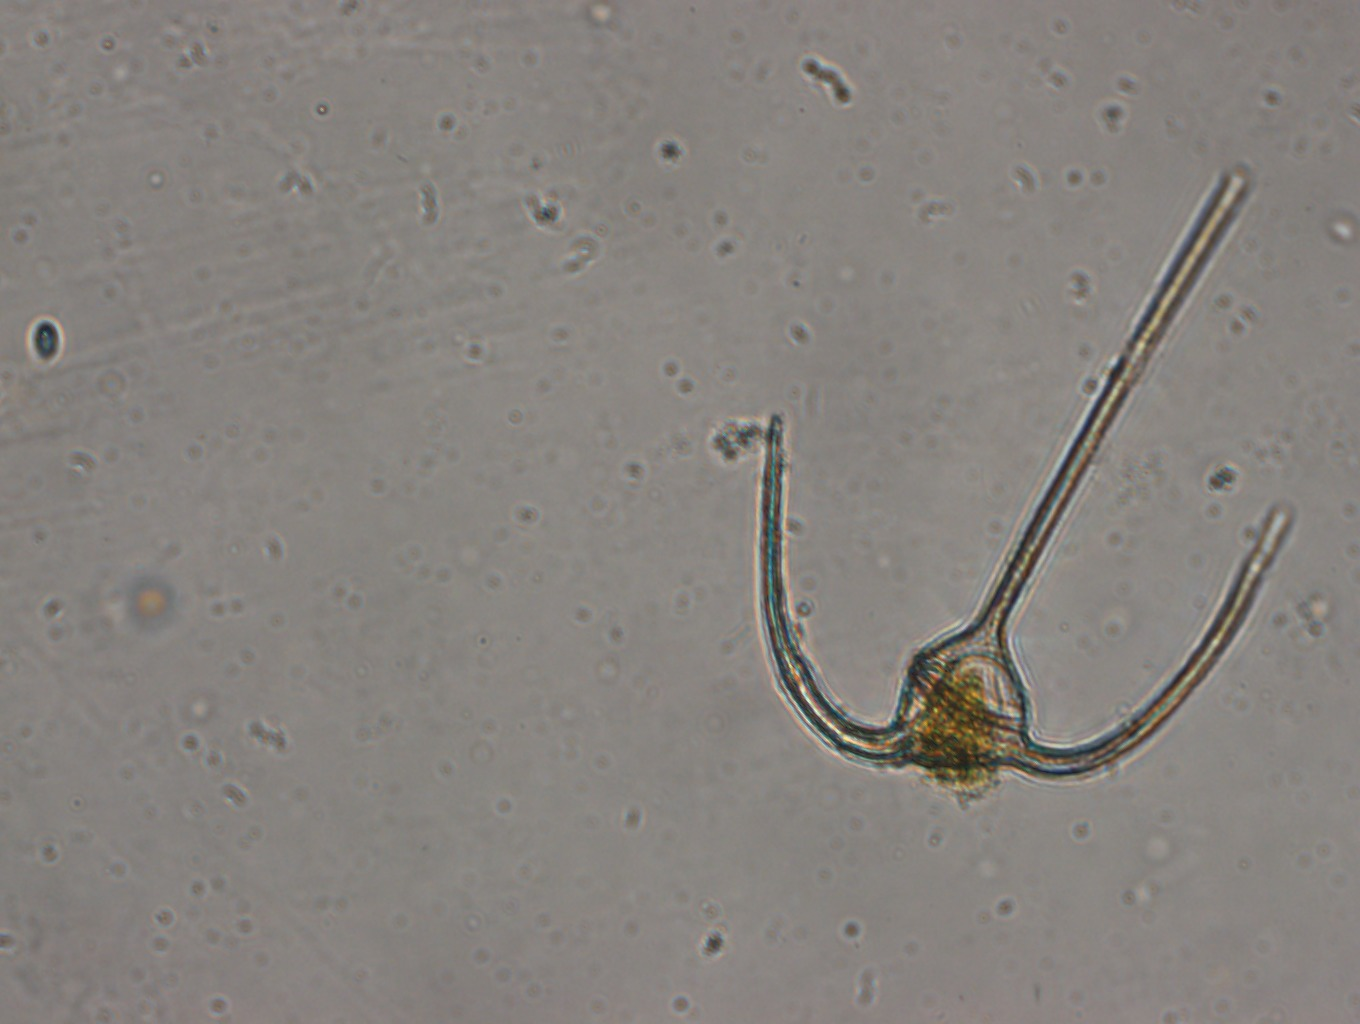ceratium trichoceros: (744, 157, 1298, 803)
